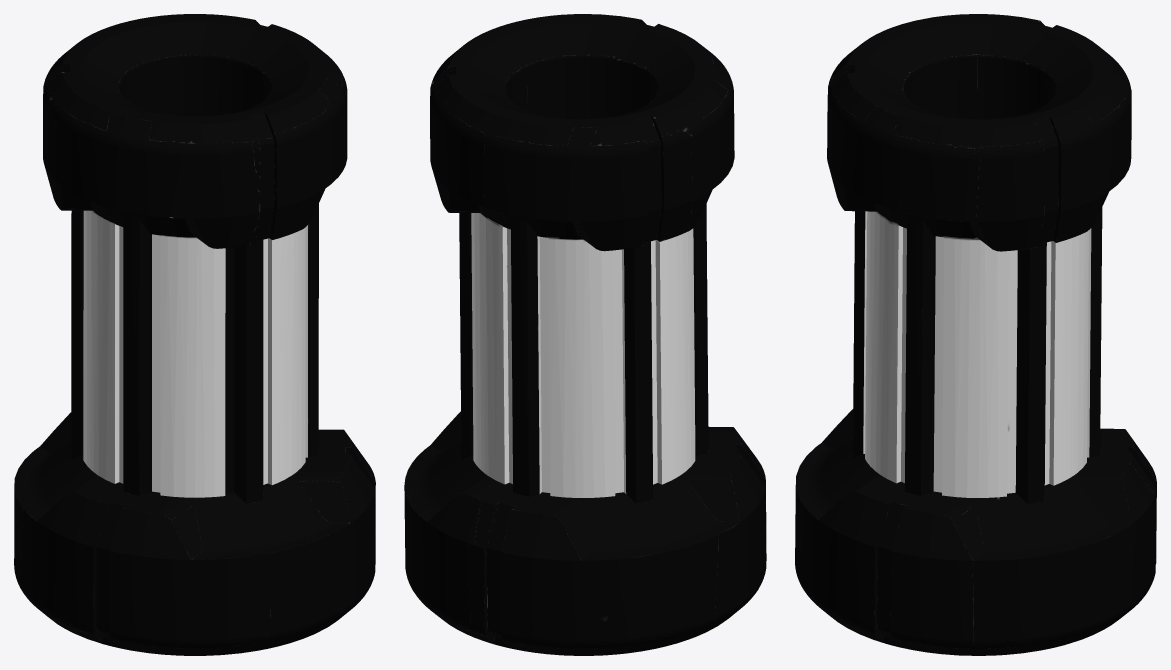
Rendered from real_color_obj.obj.
The picture shows the model from 3 angles, left to right: view 1: azimuth 30°, elevation 25°; view 2: azimuth 150°, elevation 25°; view 3: azimuth 270°, elevation 25°; orthographic projection.
Visible parts, largest first — view 1: 能量单元_打印版_low; view 2: 能量单元_打印版_low; view 3: 能量单元_打印版_low.
Part boxes in pixels (x1=…): 能量单元_打印版_low: x1=14, y1=14, x2=375, y2=655; 能量单元_打印版_low: x1=404, y1=14, x2=766, y2=655; 能量单元_打印版_low: x1=795, y1=14, x2=1156, y2=655.
Size of the model in its own units: 95.1 by 151 by 95.14.
Materials: 1 (1 with a texture image).
